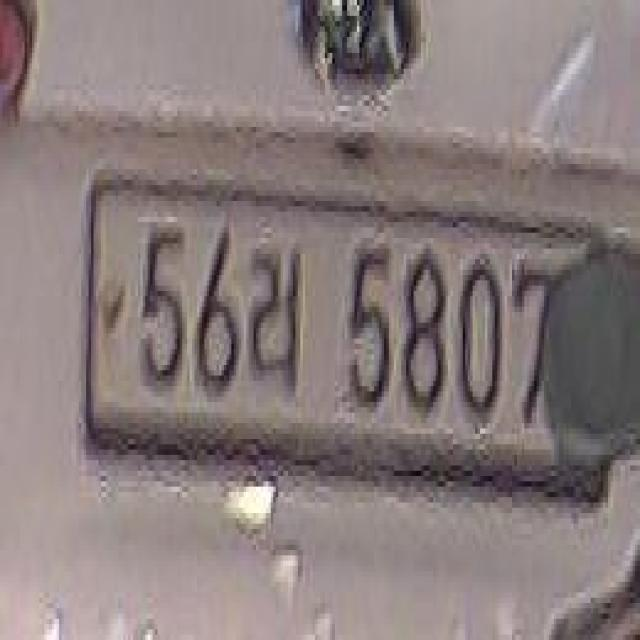illegal_plate: (81, 164, 606, 524)
